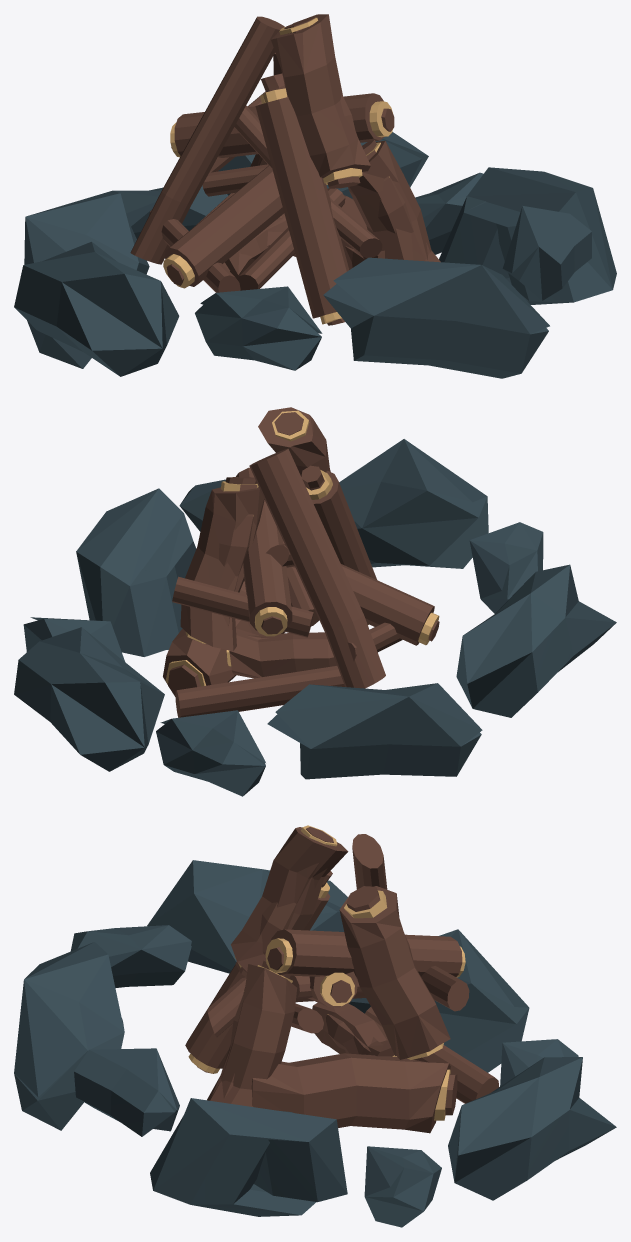
The picture shows the model from 3 angles, top to bottom: view 1: azimuth 30°, elevation 25°; view 2: azimuth 150°, elevation 25°; view 3: azimuth 270°, elevation 25°; orthographic projection. The views are drawn at different scales.
Parts seen in each view (by area): view 1: node_MeshObject-958242816-PolyPaper20; view 2: node_MeshObject-958242816-PolyPaper20; view 3: node_MeshObject-958242816-PolyPaper20.
Part boxes in pixels (bbox=[...]): node_MeshObject-958242816-PolyPaper20: bbox=[14, 14, 616, 378]; node_MeshObject-958242816-PolyPaper20: bbox=[14, 407, 616, 796]; node_MeshObject-958242816-PolyPaper20: bbox=[14, 825, 616, 1227].
Bounding box in the file's own units: 0.5158 × 0.2987 × 0.5229.
